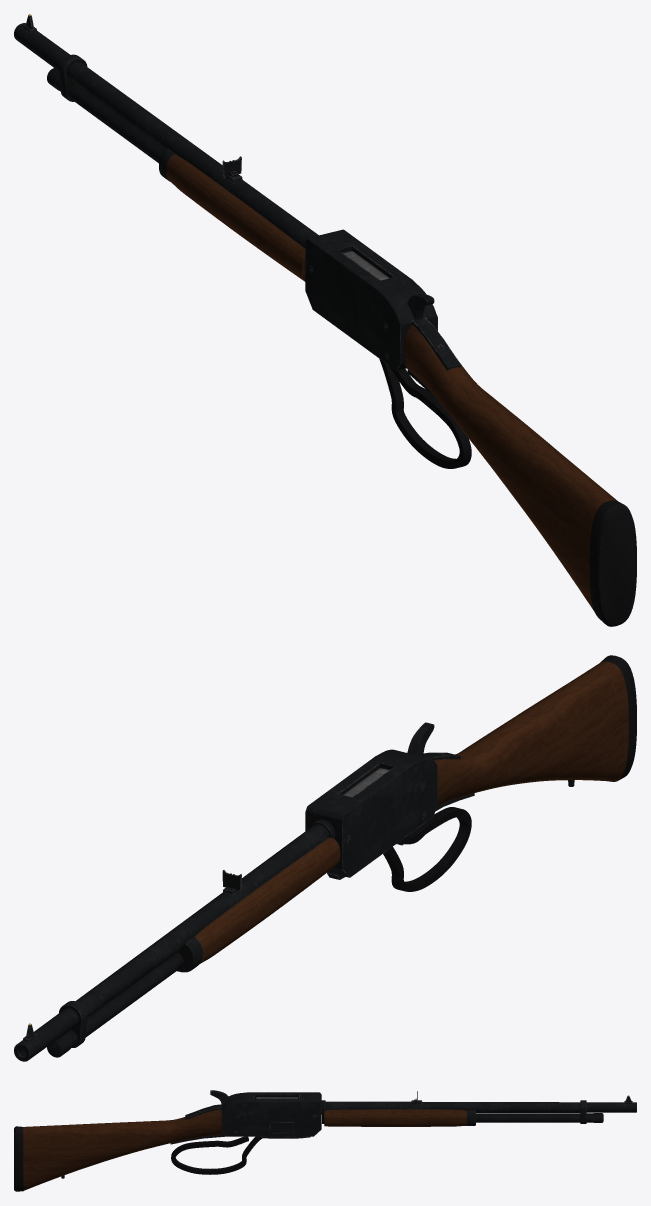
File: rifle_low.glb
The picture shows the model from 3 angles, top to bottom: view 1: azimuth 30°, elevation 25°; view 2: azimuth 150°, elevation 25°; view 3: azimuth 270°, elevation 25°; orthographic projection. The views are drawn at different scales.
Parts seen in each view (by area): view 1: rifle_body, rifle_lever; view 2: rifle_body, rifle_lever; view 3: rifle_body, rifle_lever, rifle_hammer.
Boxes of the visible parts, x1,y1,x2,y2 form: rifle_body: [14, 14, 636, 626]; rifle_lever: [379, 359, 471, 468]; rifle_body: [14, 655, 636, 1061]; rifle_lever: [327, 807, 471, 891]; rifle_body: [14, 1091, 636, 1191]; rifle_lever: [171, 1136, 310, 1174]; rifle_hammer: [210, 1090, 230, 1106].
Size of what is drawn, in the model's own units: 0.0431 by 0.1952 by 1.11.
1 material, 1 textured.
